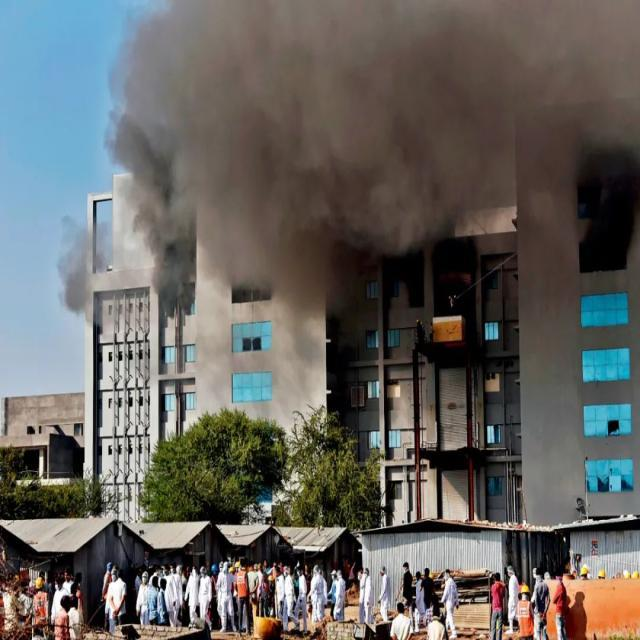Smoke: (106, 0, 640, 247)
